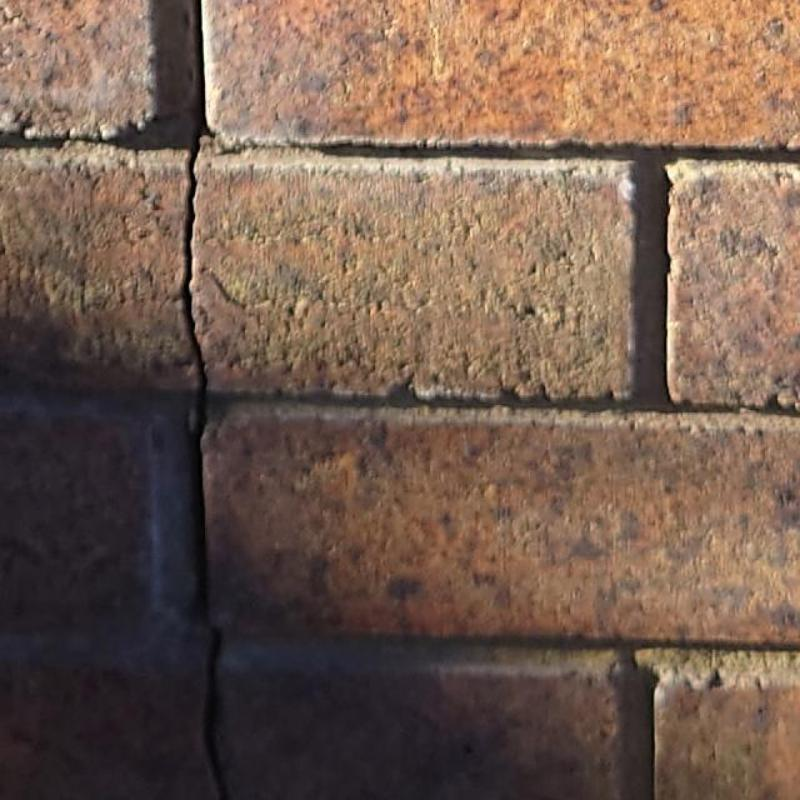crack: (186, 0, 223, 800)
